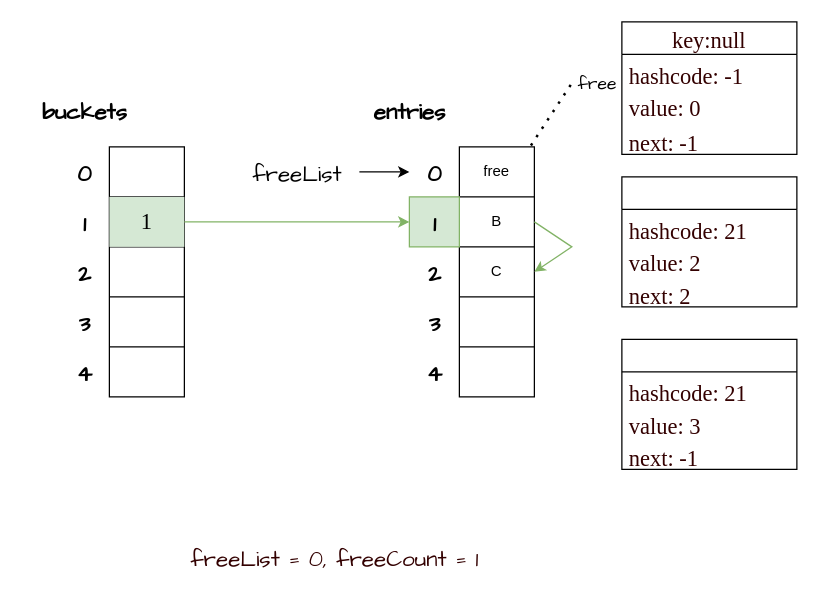
Some shapes in this 819 by 600 pixel diagram are drawn without their labels. The shapes that lost their labels are listed below. From the top down, each one's box as (x1, y1, x2, y2) in pixels, then its label:
(621, 176, 797, 307): key:B
(621, 338, 797, 469): key:C
